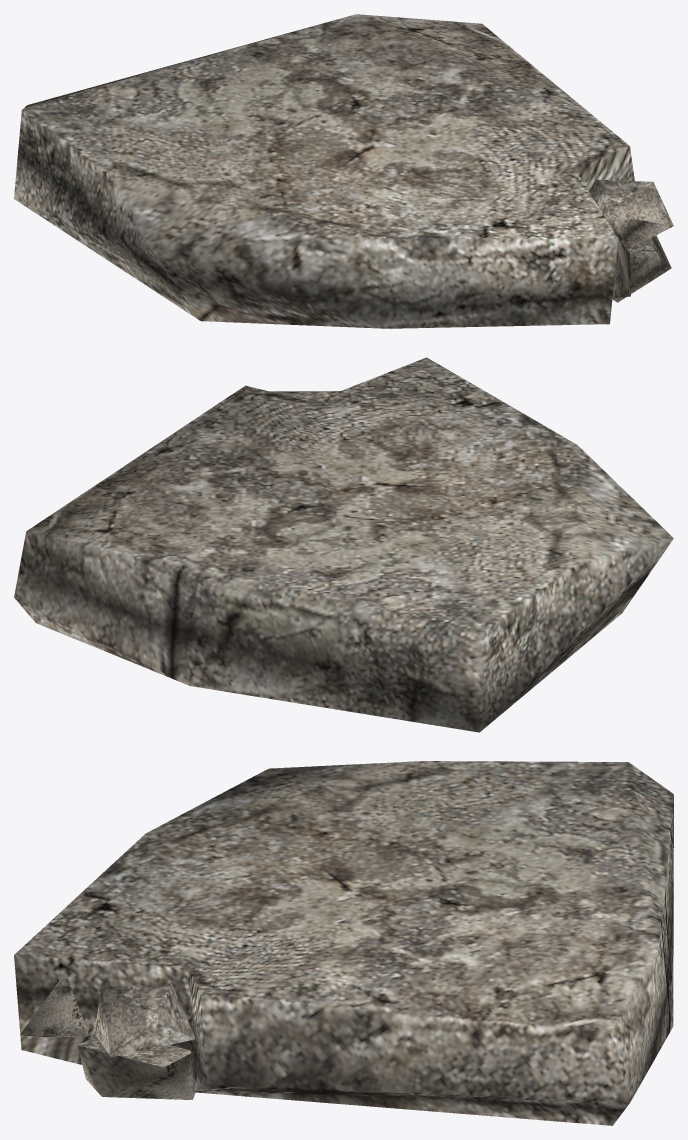
The model's file is Debris1_4_LOD1.fbx.
3 renders of one model, top to bottom at view 1: azimuth 30°, elevation 25°; view 2: azimuth 150°, elevation 25°; view 3: azimuth 270°, elevation 25°, orthographic. The views are drawn at different scales.
Parts seen in each view (by area): view 1: polySurface159; view 2: polySurface159; view 3: polySurface159.
Part boxes in pixels (x1,y1,x2,y2): polySurface159: (14,14,673,328); polySurface159: (14,357,673,732); polySurface159: (14,761,673,1125).
Size of the model in its own units: 2.37 by 0.5486 by 2.47.
